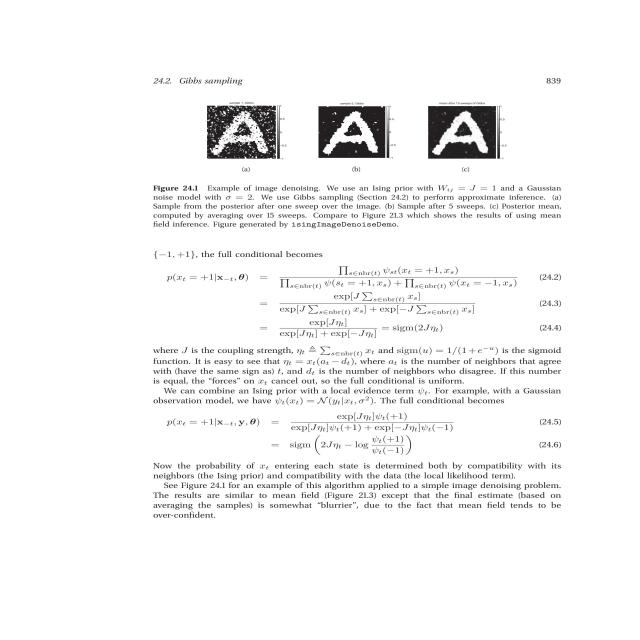diagram: (134, 94, 617, 236)
